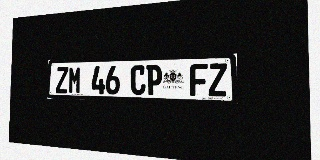4: (91, 66, 105, 94)
6: (105, 66, 120, 95)
C: (130, 65, 146, 95)
F: (190, 64, 208, 96)
M: (68, 66, 81, 94)
P: (146, 65, 162, 95)
Z: (208, 63, 227, 97), (56, 67, 68, 94)
